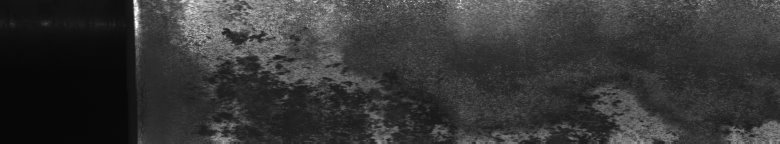kb: (153, 4, 776, 136)
